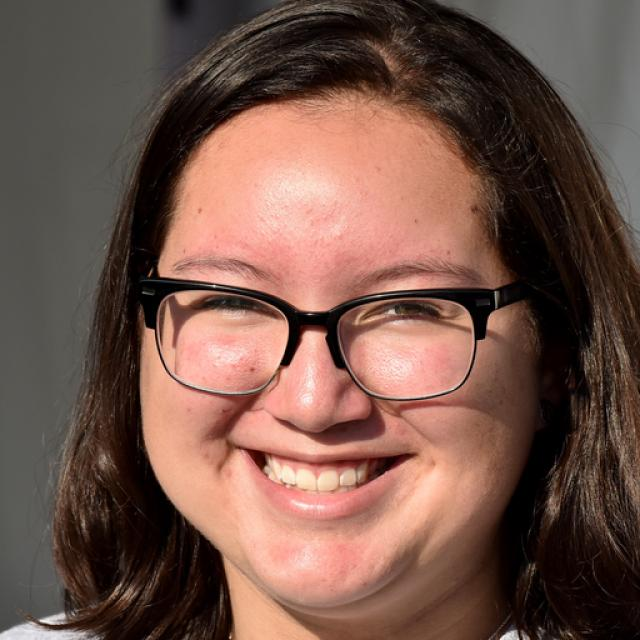Acne: (330, 226, 345, 242)
